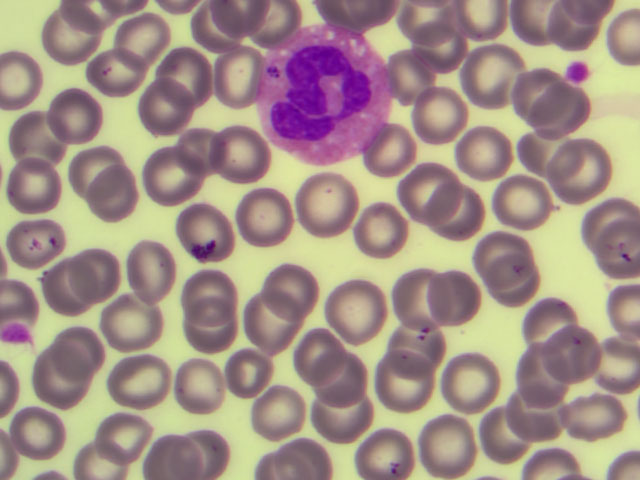Platelets: (561, 60, 591, 85), (3, 326, 26, 342)
RBC: (177, 418, 235, 480), (135, 418, 193, 480), (353, 418, 411, 480), (427, 418, 485, 480), (43, 6, 101, 67), (82, 39, 140, 100), (109, 4, 167, 65), (155, 47, 213, 108), (138, 75, 196, 136), (208, 46, 266, 107), (203, 123, 261, 184), (183, 122, 241, 183), (124, 145, 182, 206), (88, 169, 146, 230), (74, 148, 132, 209), (52, 82, 110, 143), (14, 97, 72, 158), (10, 162, 68, 223), (5, 220, 63, 281), (25, 247, 83, 308), (70, 249, 128, 310), (119, 245, 177, 306), (180, 203, 238, 264), (180, 246, 238, 307), (179, 298, 237, 359), (98, 293, 156, 354), (111, 345, 169, 406), (173, 354, 231, 415), (228, 354, 286, 415), (258, 384, 316, 445), (102, 412, 160, 473), (16, 395, 74, 456), (29, 361, 87, 422), (44, 325, 102, 386), (234, 300, 292, 361), (254, 266, 312, 327), (282, 321, 340, 382), (313, 348, 371, 409), (307, 387, 365, 448), (441, 354, 499, 415), (376, 352, 434, 413), (388, 321, 446, 382), (390, 272, 448, 333), (418, 268, 476, 329), (334, 272, 392, 333), (349, 204, 407, 265), (306, 176, 364, 237), (243, 183, 301, 244), (359, 124, 417, 185), (393, 152, 451, 213), (440, 178, 498, 239), (451, 122, 509, 183), (410, 87, 468, 148), (394, 55, 452, 116), (410, 25, 468, 86), (396, 7, 454, 68), (463, 40, 521, 101), (504, 63, 562, 124), (527, 84, 585, 145), (509, 128, 567, 189), (559, 143, 617, 204), (494, 170, 552, 231), (469, 229, 527, 290), (493, 255, 551, 316), (519, 293, 577, 354), (540, 331, 598, 392), (517, 350, 575, 411), (526, 375, 584, 436), (485, 409, 543, 470), (575, 387, 633, 448), (582, 319, 640, 380), (582, 217, 640, 278), (582, 182, 640, 243), (582, 6, 640, 67), (546, 5, 604, 66), (186, 1, 244, 61), (503, 1, 560, 42)
WBC: (248, 21, 390, 167)
